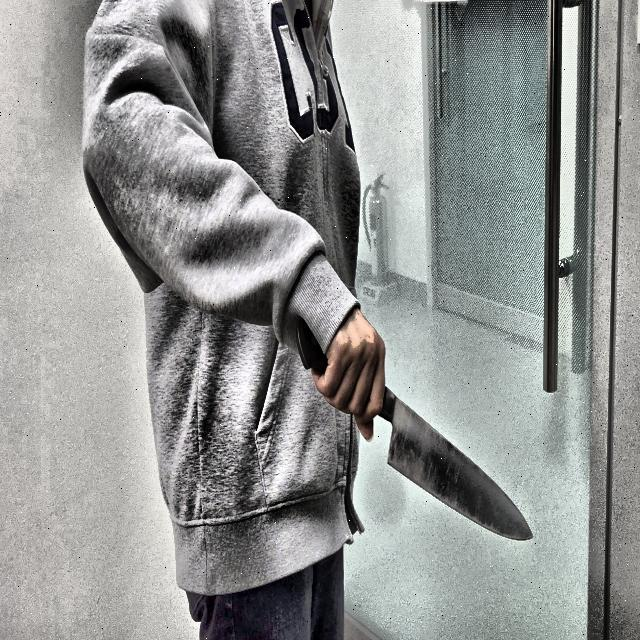knife: (296, 311, 534, 544)
